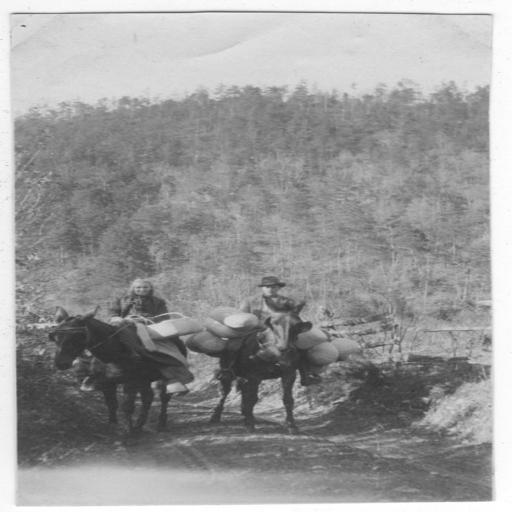Horse: (45, 305, 191, 451), (210, 297, 312, 435)
